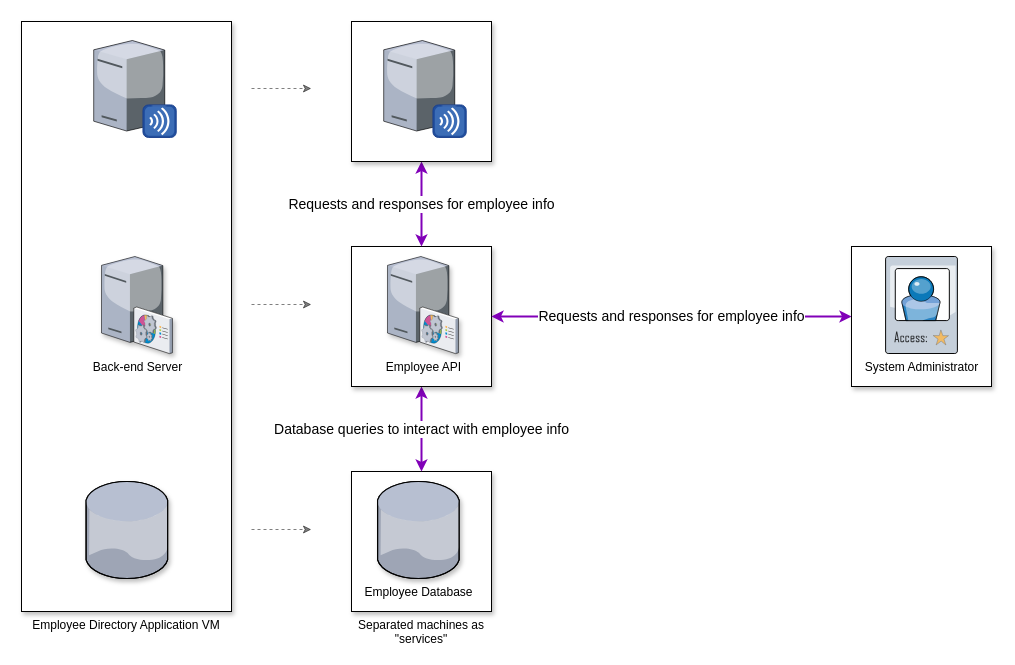
The diagram is 1015 pixels wide and 665 high, and some of its shapes have lost their labels. Here are the shapes that lost their labels. From the top down, the centre of each, then its label:
At [134,88]: "Front-end Server".
At [424,88]: "Employee Directory App".
At [128,531]: "Database".
